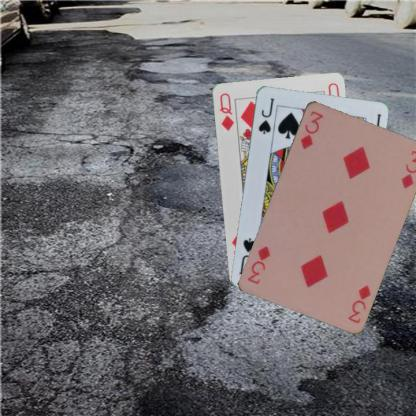3d: (297, 108, 325, 150), (344, 282, 372, 324)
Js: (256, 96, 276, 136)
Qd: (216, 90, 235, 132)
